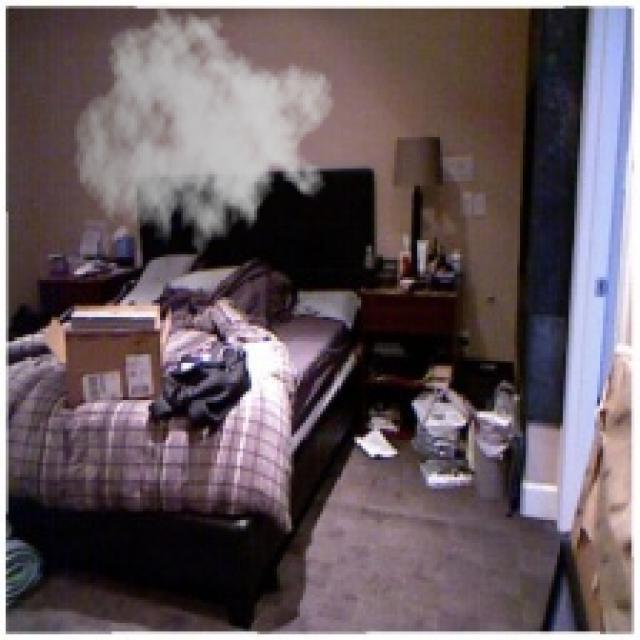Smoke: (72, 2, 334, 272)
